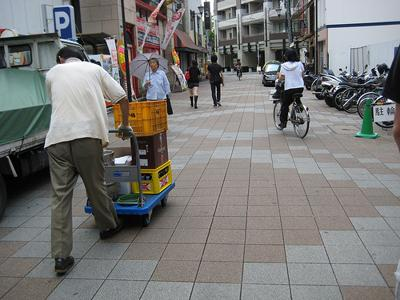person: (43, 44, 133, 280)
